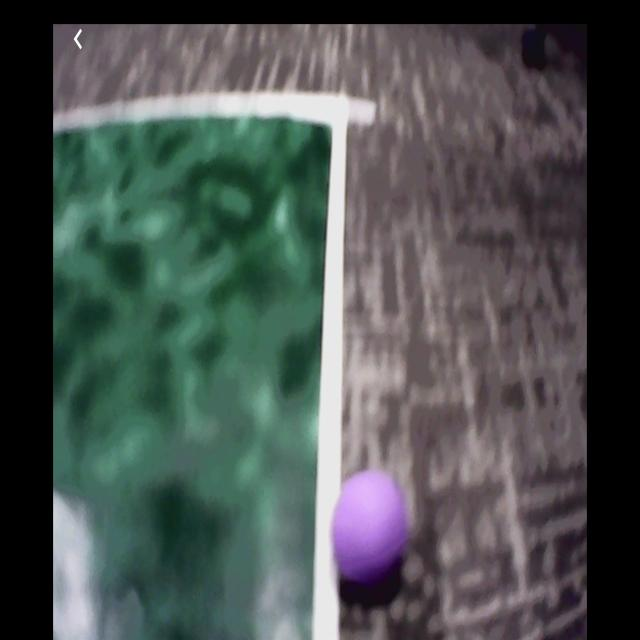ball: (333, 472, 406, 584)
